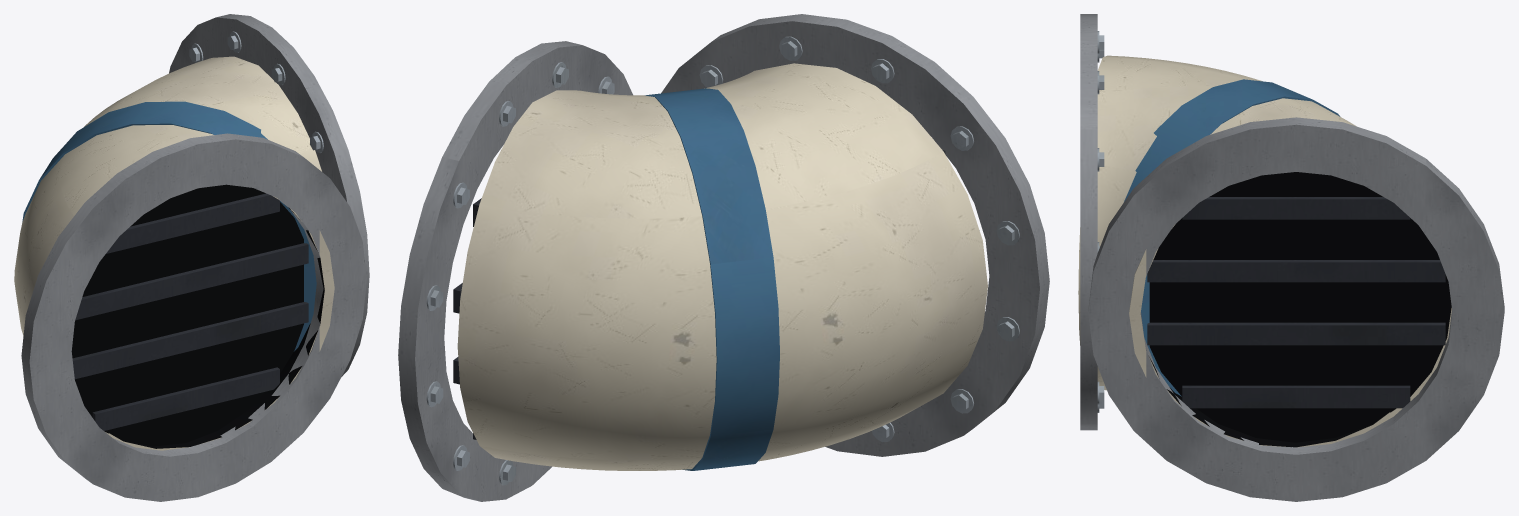
Rendered from main_pipe_corner.glb.
3 views of the same model, side by side, from view 1: azimuth 30°, elevation 25°; view 2: azimuth 150°, elevation 25°; view 3: azimuth 270°, elevation 25° (orthographic). The views are drawn at different scales.
Parts seen in each view (by area): view 1: Body.006; view 2: Body.006; view 3: Body.006.
Boxes of the visible parts, <box> form: Body.006: <box>14,14,369,501</box>; Body.006: <box>398,14,1049,501</box>; Body.006: <box>1078,14,1504,501</box>.
Bounding box in the file's own units: 0.737 × 0.72 × 0.737.
6 materials, 5 textured.
